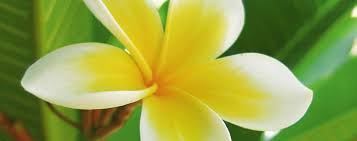frangipani: (21, 1, 313, 141)
